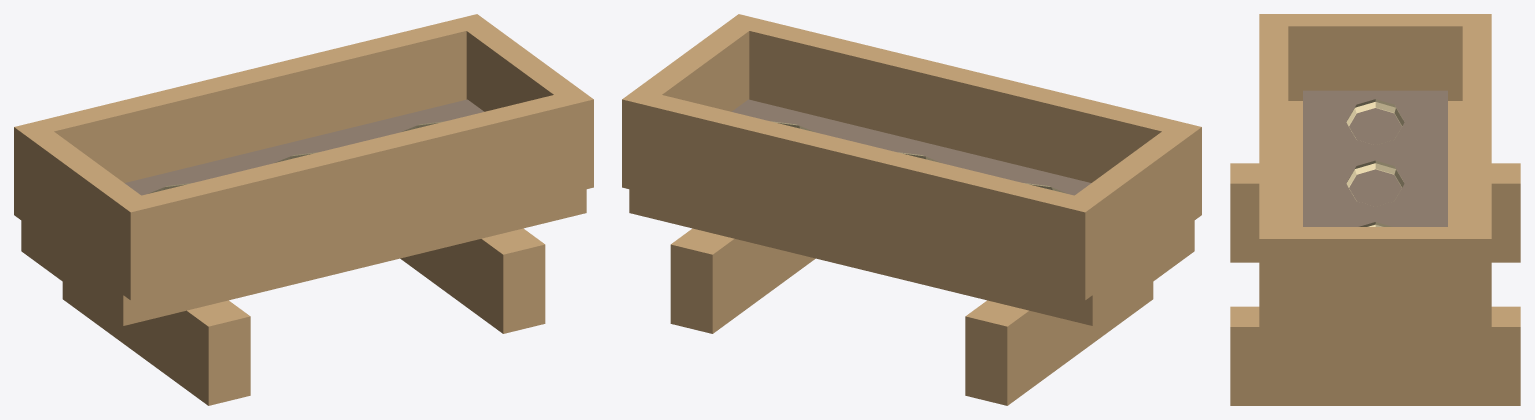
Rendered from harvest-hearth-farm-feed-trough__65.glb.
3 renders of one model, left to right at view 1: azimuth 30°, elevation 25°; view 2: azimuth 150°, elevation 25°; view 3: azimuth 270°, elevation 25°, orthographic.
Visible parts, largest first — view 1: harvest-hearth-feed-trough; view 2: harvest-hearth-feed-trough; view 3: harvest-hearth-feed-trough.
Boxes of the visible parts, x1=… form: harvest-hearth-feed-trough: x1=14, y1=14, x2=593, y2=405; harvest-hearth-feed-trough: x1=622, y1=14, x2=1201, y2=405; harvest-hearth-feed-trough: x1=1230, y1=14, x2=1520, y2=405.
Size of the model in its own units: 1.1 by 0.45 by 0.6.
